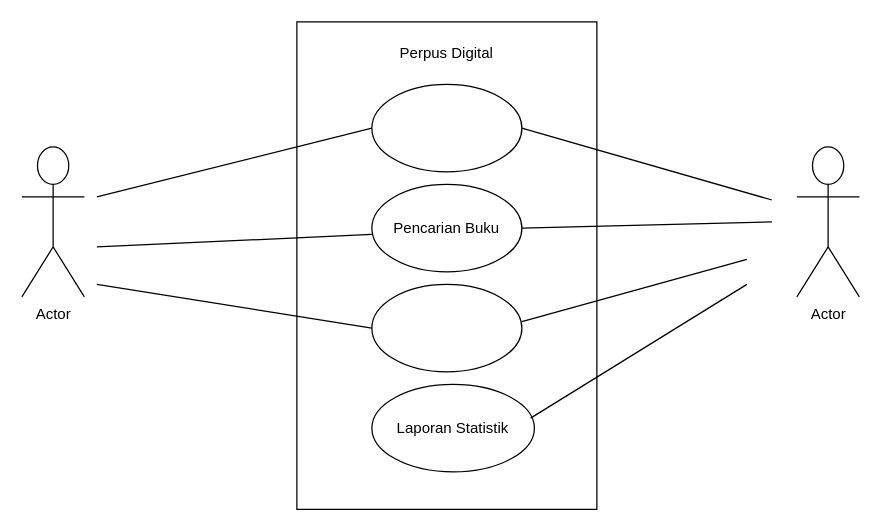
This 881x531 diagram has some shape labels left out. The shapes that lost their labels are listed below. From the top down, each one's centre as x and y in pixels, then its label:
At [446,127]: "Form Pengunjung".
At [446,327]: "Detel Buku".
